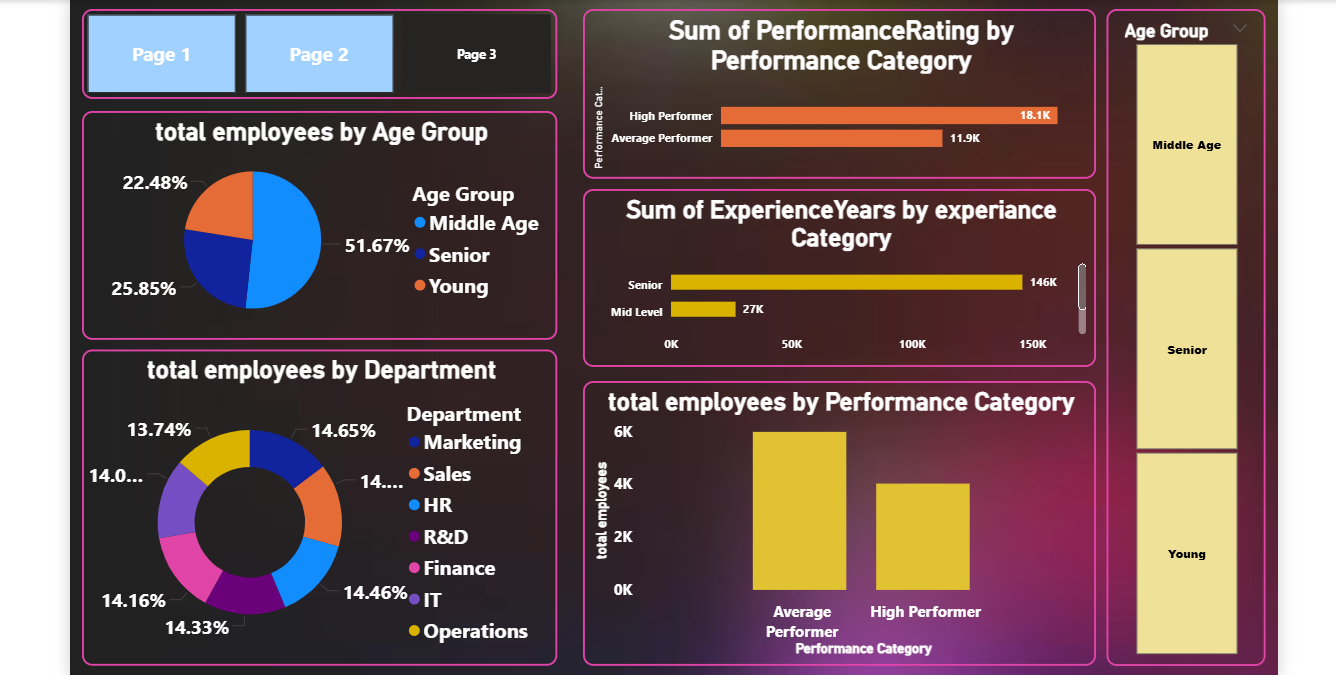

The dashboard page shown, as its layout file describes it:
{"tool":"powerbi","page":{"name":"Page 3","canvas":[1280,720],"ordinal":2},"visuals":[{"type":"barChart","fields":{"Category":["Employee_Data.Experiance Category"],"Y":["Sum(Employee_Data.ExperienceYears)"]},"box":[544.3,200,544.3,188.6],"z":0},{"type":"barChart","fields":{"Category":["Employee_Data.Performance Category"],"Y":["Sum(Employee_Data.PerformanceRating)"]},"box":[544,9.5,544,179.7],"z":1000},{"type":"donutChart","fields":{"Y":["Employee_Data.total employees"],"Category":["Employee_Data.Department"]},"box":[12.7,370.6,504.2,335.6],"z":2000},{"type":"pieChart","fields":{"Category":["Employee_Data.Age Group"],"Y":["Employee_Data.total employees"]},"box":[12.9,117.1,504.3,242.9],"z":3000},{"type":"slicer","fields":{"Values":["Employee_Data.Age Group"]},"box":[1099.1,9.5,168.6,696.7],"z":4000},{"type":"pageNavigator","box":[12.7,9.5,504.2,95.4],"z":5000},{"type":"clusteredColumnChart","fields":{"Category":["Employee_Data.Performance Category"],"Y":["Employee_Data.total employees"]},"box":[544,404,544,302.2],"z":6000}]}

Visuals, with their boxes on the page's 1280x720 design canvas (x1, y1, x2, y2). These are canvas units, not pixel positions in the 1336x675 screenshot, which may show the page scaled, cropped or inside an application window:
barChart - Employee_Data.Experiance Category x Sum(Employee_Data.ExperienceYears): (544, 200, 1089, 389)
barChart - Employee_Data.Performance Category x Sum(Employee_Data.PerformanceRating): (544, 10, 1088, 189)
donutChart - Employee_Data.total employees x Employee_Data.Department: (13, 371, 517, 706)
pieChart - Employee_Data.Age Group x Employee_Data.total employees: (13, 117, 517, 360)
slicer - Employee_Data.Age Group: (1099, 10, 1268, 706)
pageNavigator: (13, 10, 517, 105)
clusteredColumnChart - Employee_Data.Performance Category x Employee_Data.total employees: (544, 404, 1088, 706)
